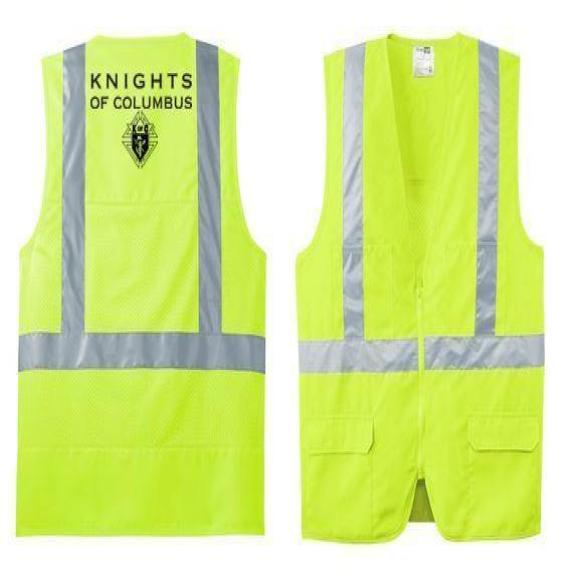safety_vest: (12, 34, 267, 540), (296, 31, 543, 539)
